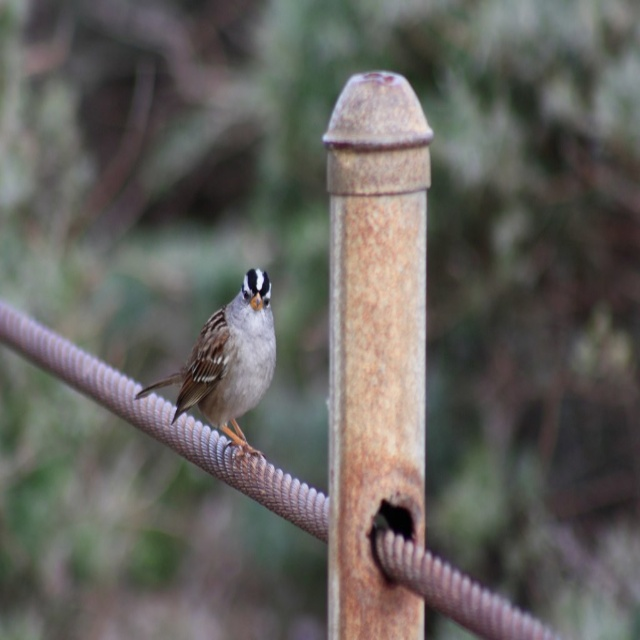Sparrow: (131, 267, 279, 466)
